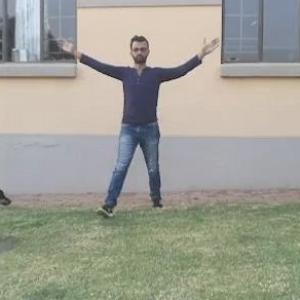takeoff: (72, 33, 228, 200)
